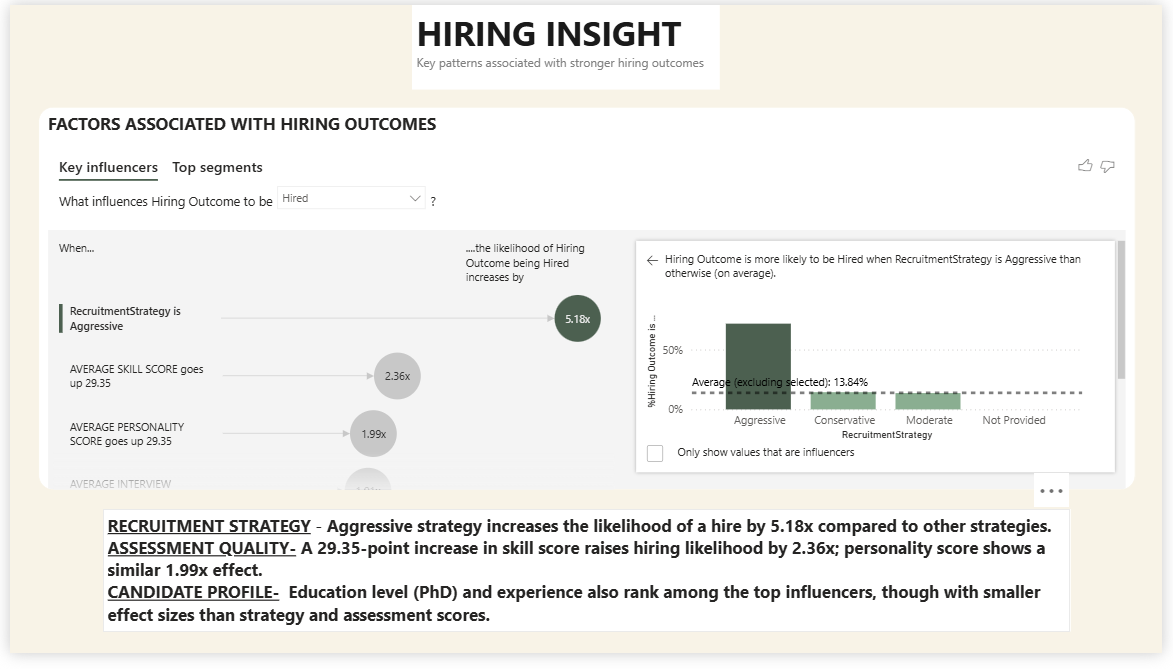

This screenshot's page, from the dashboard's own definition file:
{"tool":"powerbi","page":{"name":"Hiring Insight","canvas":[1280,720],"ordinal":3},"visuals":[{"type":"textbox","box":[446.7,0,342.2,93.9],"z":0},{"type":"keyDriversVisual","title":"FACTORS ASSOCIATED WITH HIRING OUTCOMES","fields":{"ExplainBy":["Recruitment Data.RecruitmentStrategy","Recruitment Data.AVERAGE INTERVIEW SCORE","Recruitment Data.AVERAGE SKILL SCORE","Recruitment Data.AVERAGE PERSONALITY SCORE","Recruitment Data.EducationLevel","Recruitment Data.Gender","Recruitment Data.EXPERIENCE GROUP","Recruitment Data.DISTANCE FROM COMPANY","Recruitment Data.Age"],"Target":["Recruitment Data.Hiring Outcome"]},"box":[31.7,113.3,1218.3,425],"z":1000},{"type":"textbox","box":[103,560.3,1075.1,136.3],"z":2000}]}

Visuals, with their boxes in screenshot pixels (x1, y1, x2, y2), scaled from the page's 1280x720 canvas onto the 1173x669 screenshot:
textbox: (left=409, top=0, right=723, bottom=87)
"FACTORS ASSOCIATED WITH HIRING OUTCOMES" keyDriversVisual: (left=29, top=105, right=1146, bottom=500)
textbox: (left=94, top=521, right=1080, bottom=647)
